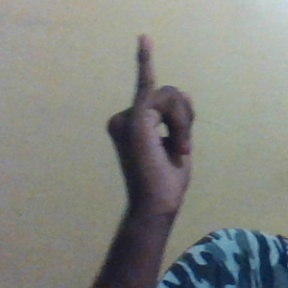I: (109, 34, 200, 204)
